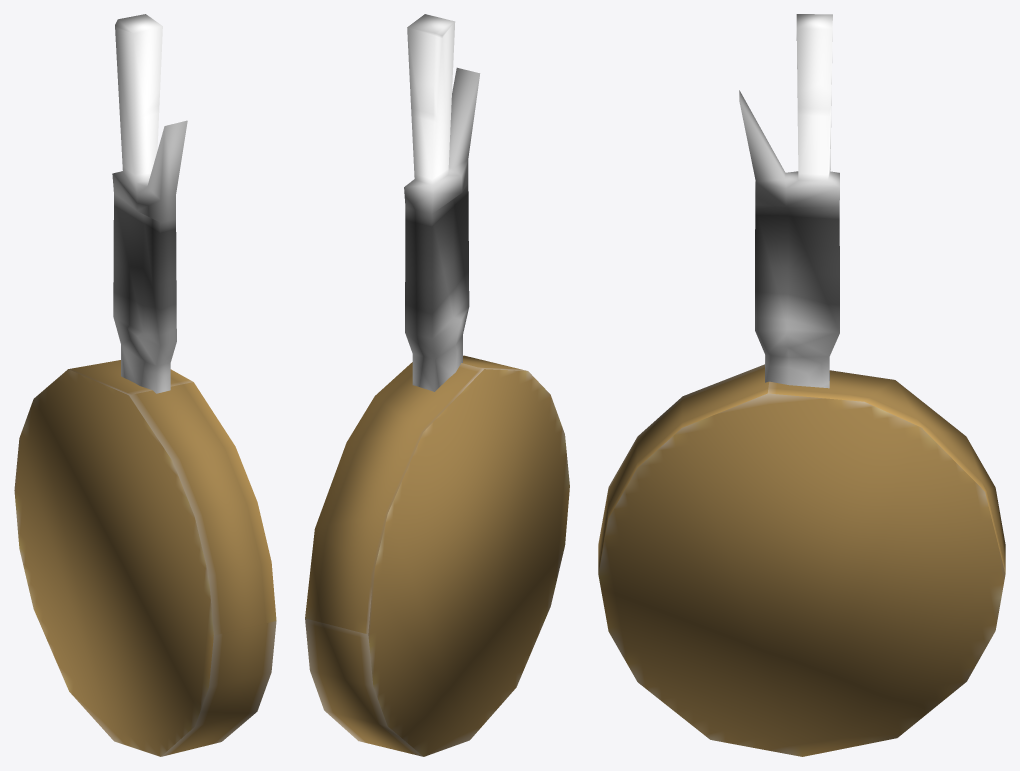
File: slider_1.obj
3 renders of one model, left to right at view 1: azimuth 30°, elevation 25°; view 2: azimuth 150°, elevation 25°; view 3: azimuth 270°, elevation 25°, orthographic. The views are drawn at different scales.
Visible parts, largest first — view 1: 8.Console_Little_Lever.001; view 2: 8.Console_Little_Lever.001; view 3: 8.Console_Little_Lever.001.
Part boxes in pixels (box(x1,y1,x2,y2)): 8.Console_Little_Lever.001: box(14, 14, 276, 756); 8.Console_Little_Lever.001: box(305, 14, 569, 756); 8.Console_Little_Lever.001: box(598, 14, 1005, 756).
Size of the model in its own units: 0.0276 by 0.2932 by 0.1501.
Materials: 1 (1 with a texture image).
